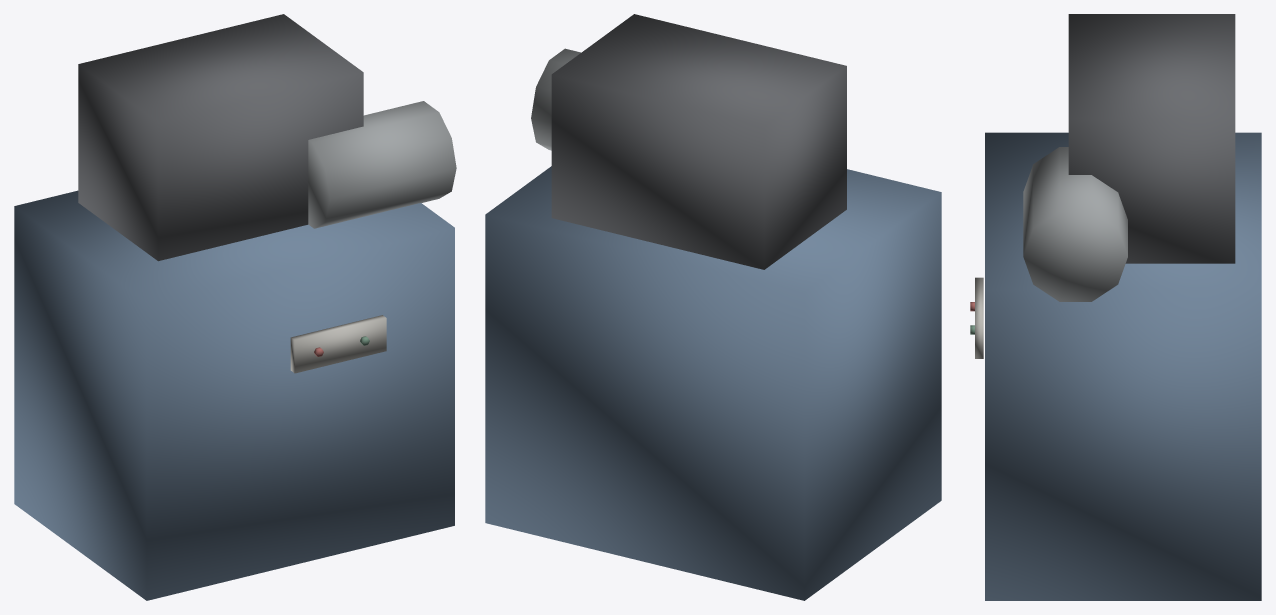
Rendered from rolling_tool_chest.glb.
The picture shows the model from 3 angles, left to right: view 1: azimuth 30°, elevation 25°; view 2: azimuth 150°, elevation 25°; view 3: azimuth 270°, elevation 25°; orthographic projection. The views are drawn at different scales.
Parts seen in each view (by area): view 1: world; view 2: world; view 3: world.
Part boxes in pixels (bbox=[...]): world: bbox=[14, 14, 456, 600]; world: bbox=[485, 14, 941, 600]; world: bbox=[970, 14, 1261, 600].
Bounding box in the file's own units: 0.83 × 1.05 × 0.611.
